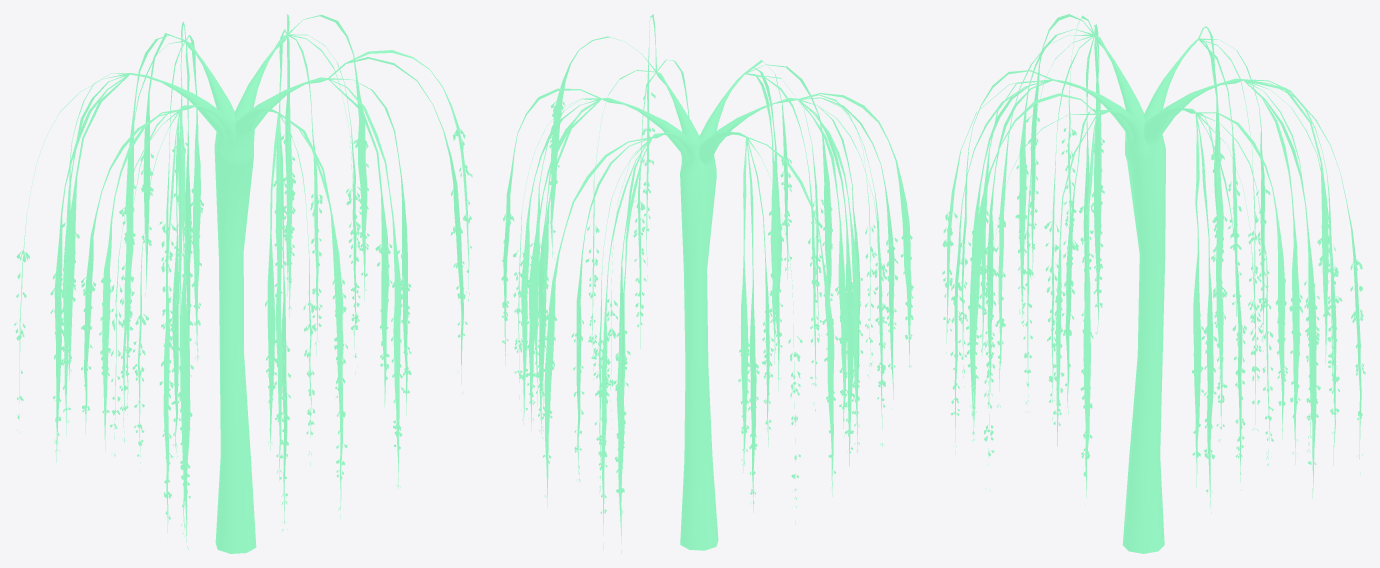
File: Tree 1.glb
3 renders of one model, left to right at view 1: azimuth 30°, elevation 25°; view 2: azimuth 150°, elevation 25°; view 3: azimuth 270°, elevation 25°, orthographic. The views are drawn at different scales.
Visible parts, largest first — view 1: Sci-fi Alien Plant; view 2: Sci-fi Alien Plant; view 3: Sci-fi Alien Plant.
Boxes of the visible parts, x1,y1,x2,y2 form: Sci-fi Alien Plant: [14, 14, 472, 553]; Sci-fi Alien Plant: [501, 14, 913, 553]; Sci-fi Alien Plant: [942, 14, 1365, 553].
Bounding box in the file's own units: 14.12 × 17.6 × 13.63.
